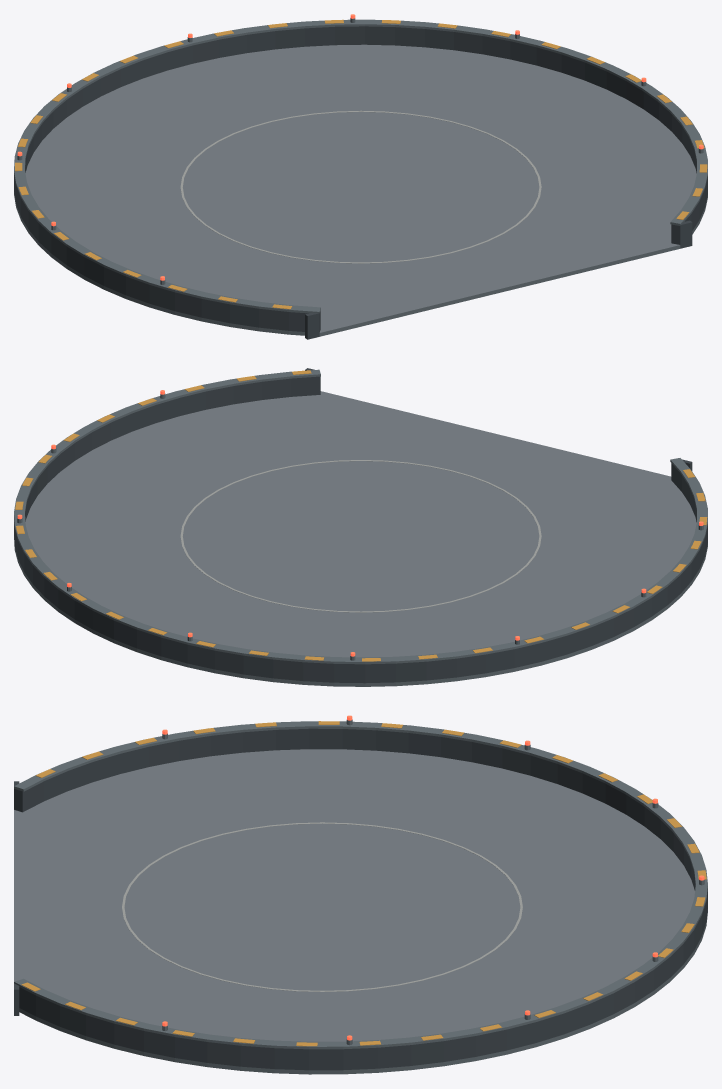
Rendered from SC_Arena.glb.
The picture shows the model from 3 angles, top to bottom: view 1: azimuth 30°, elevation 25°; view 2: azimuth 150°, elevation 25°; view 3: azimuth 270°, elevation 25°; orthographic projection. The views are drawn at different scales.
Visible parts, largest first — view 1: SC_Arena; view 2: SC_Arena; view 3: SC_Arena.
Part boxes in pixels (<box>): SC_Arena: <box>14,14,707,339</box>; SC_Arena: <box>14,368,707,686</box>; SC_Arena: <box>14,715,707,1074</box>.
Bounding box in the file's own units: 200 × 10.05 × 180.
Materials: 2 (2 with a texture image).
